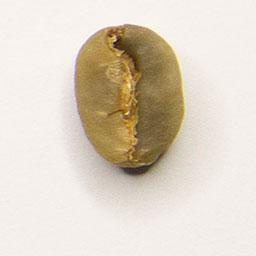premium: (71, 19, 189, 171)
